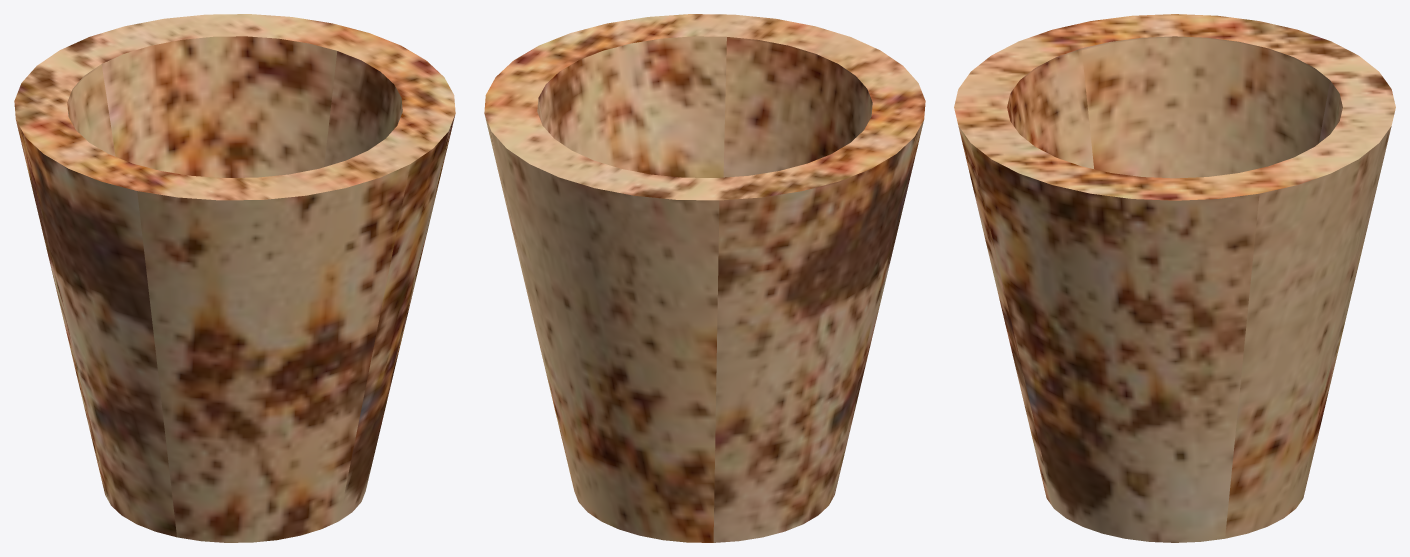
The model's file is lowqbucket_02.glb.
3 views of the same model, side by side, from view 1: azimuth 30°, elevation 25°; view 2: azimuth 150°, elevation 25°; view 3: azimuth 270°, elevation 25° (orthographic).
Parts seen in each view (by area): view 1: Cylinder; view 2: Cylinder; view 3: Cylinder.
Boxes of the visible parts, <box> form: Cylinder: <box>14,14,455,542</box>; Cylinder: <box>484,14,925,542</box>; Cylinder: <box>954,14,1395,542</box>.
Bounding box in the file's own units: 2 × 1.9 × 2.
1 material, 1 textured.
